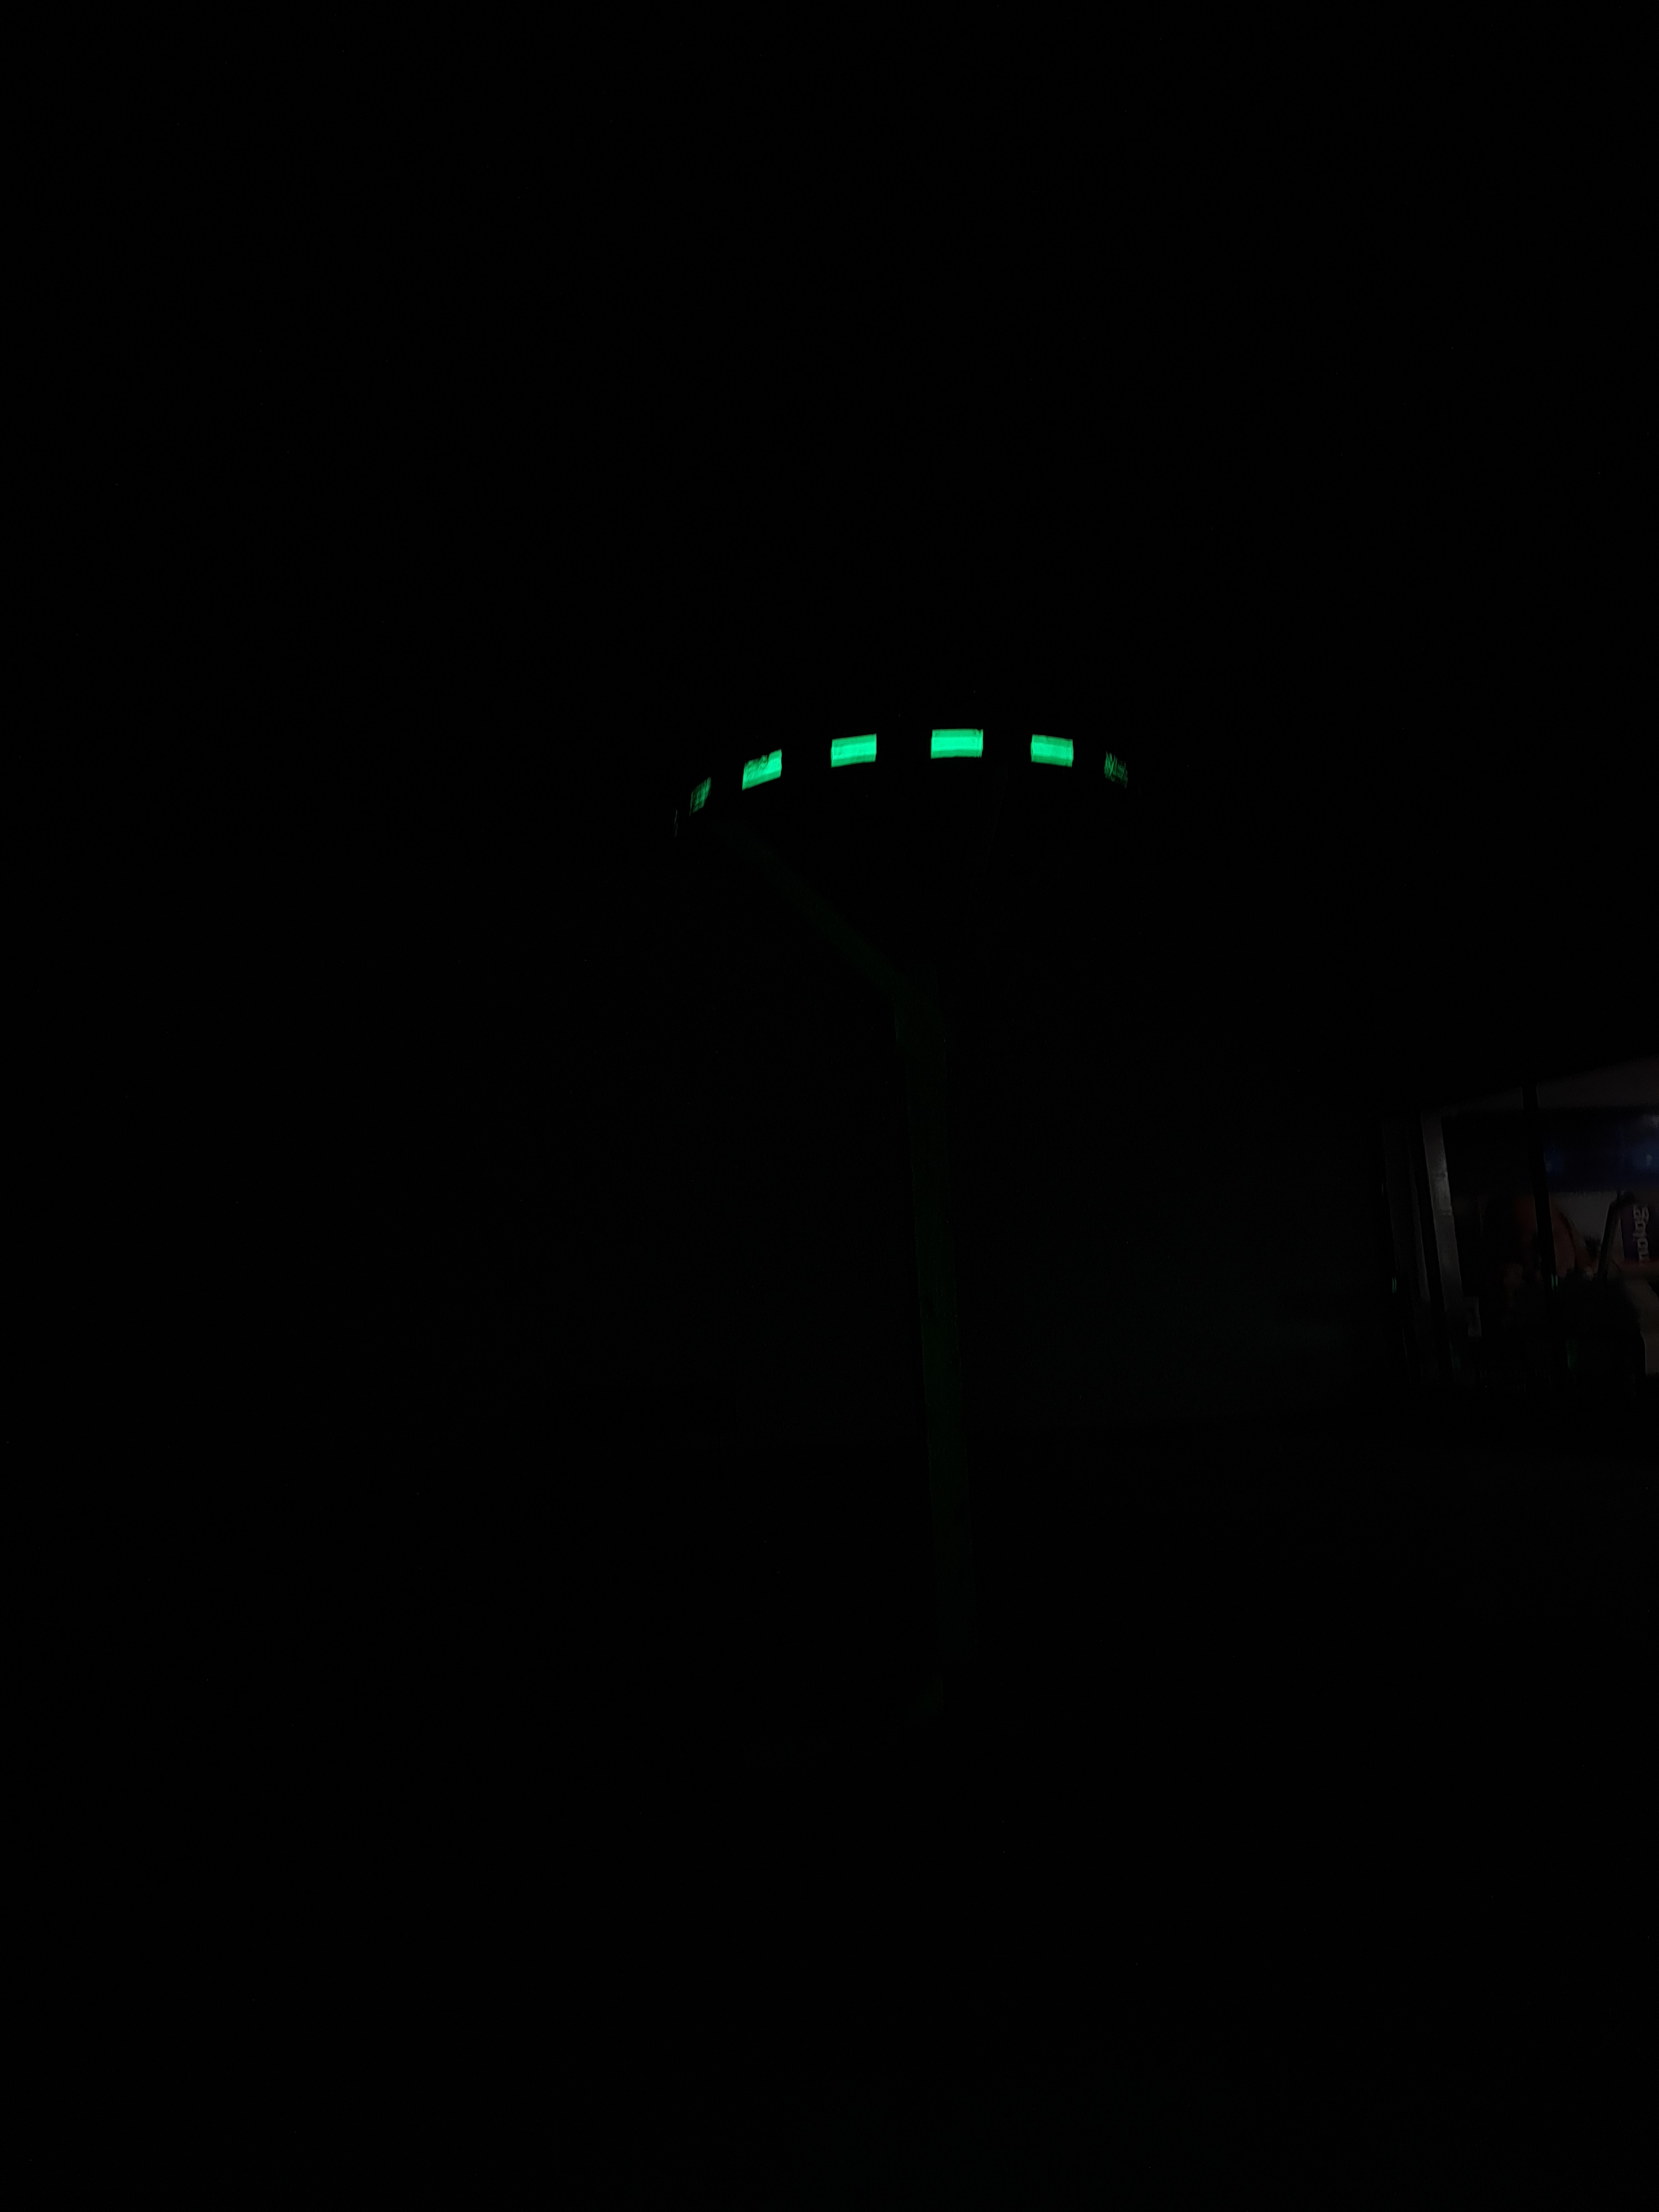hoop: (647, 712, 1173, 819)
